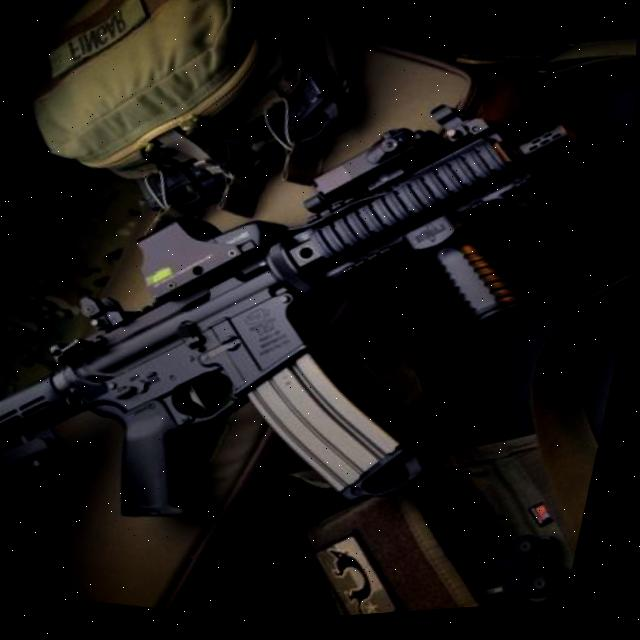firearm: (0, 28, 590, 591)
